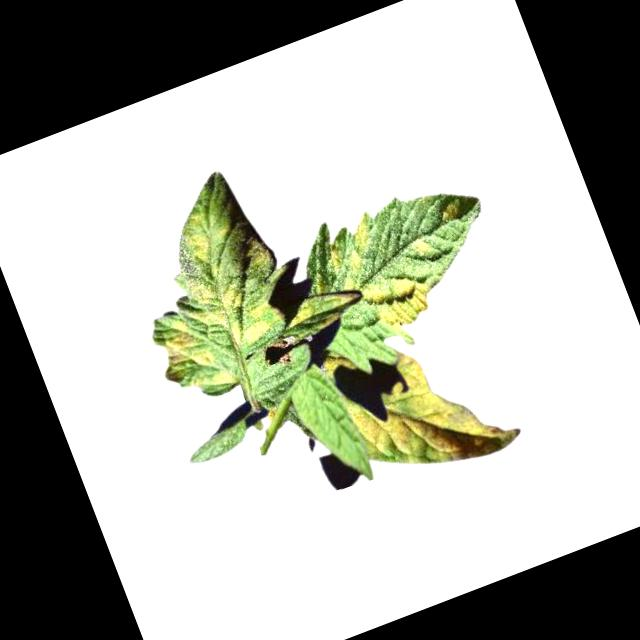Leaf_Mold: (337, 322, 526, 497), (182, 253, 291, 361), (148, 308, 236, 406), (357, 264, 438, 343), (178, 202, 239, 268), (335, 212, 383, 268), (437, 202, 461, 226)
